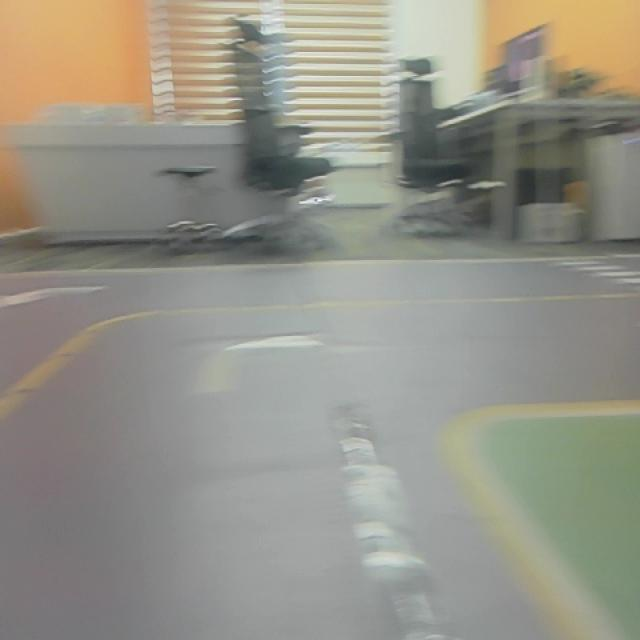left_lane: (0, 320, 100, 426)
right_lane: (432, 430, 624, 640)
